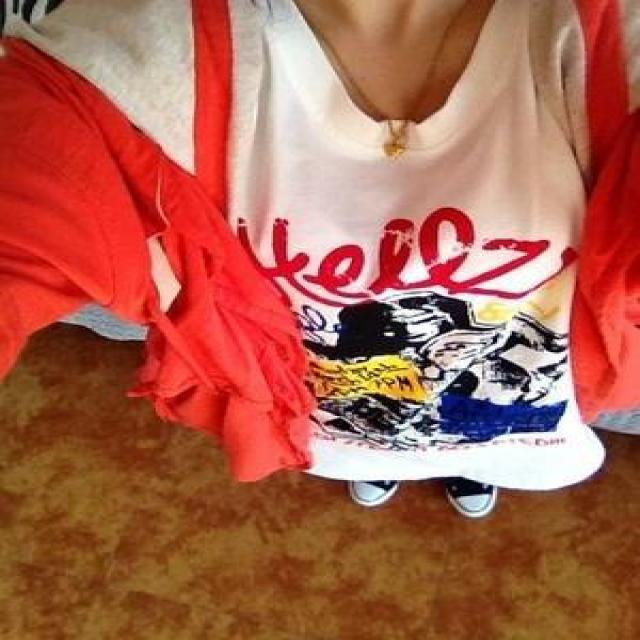short sleeve top: (4, 3, 638, 477)
